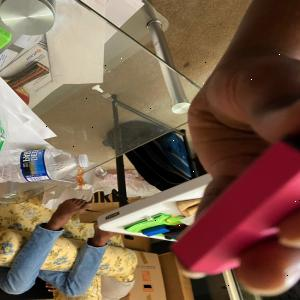Blume-E-Ciggirate: (165, 126, 300, 280)
